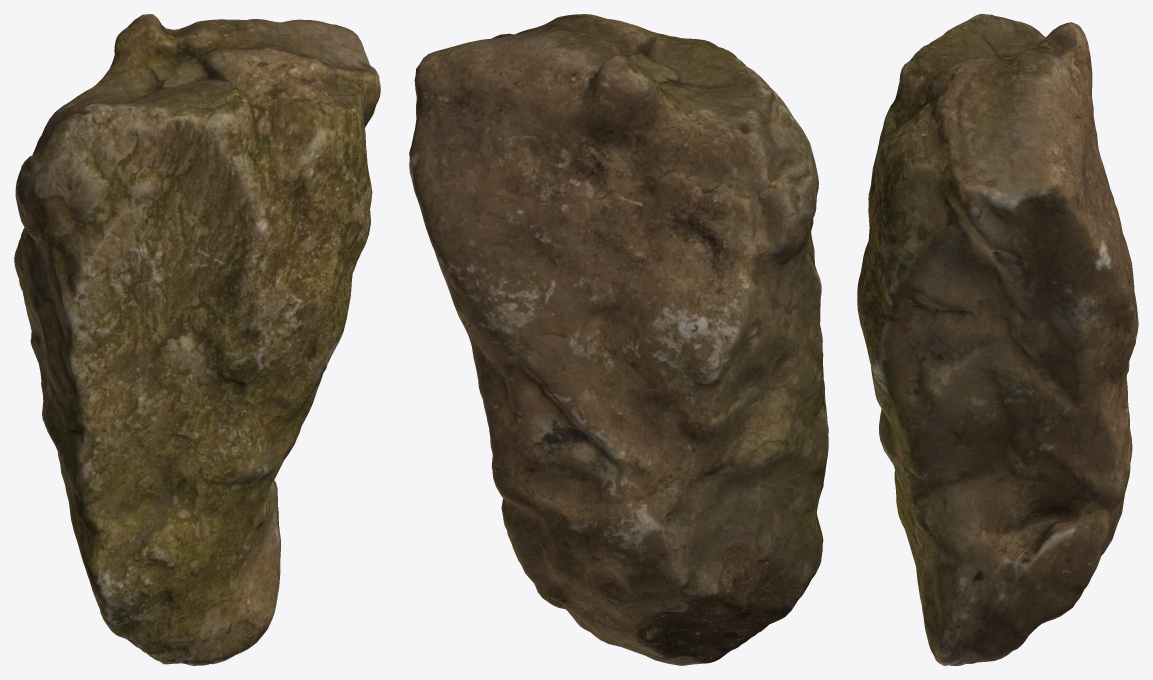
The model's file is Rock2-com.glb.
3 renders of one model, left to right at view 1: azimuth 30°, elevation 25°; view 2: azimuth 150°, elevation 25°; view 3: azimuth 270°, elevation 25°, orthographic. The views are drawn at different scales.
Visible parts, largest first — view 1: origin, origin_cell.085, origin_cell.067, origin_cell.110, origin_cell.077, origin_cell.034, origin_cell.051, origin_cell.117, origin_cell.027, origin_cell.010, origin_cell.003, origin_cell.070 (+41 smaller); view 2: origin, origin_cell.133, origin_cell.139, origin_cell.002, origin_cell.068, origin_cell.031, origin_cell.146, origin_cell.050, origin_cell.082, origin_cell.100, origin_cell.054, origin_cell.081 (+48 smaller); view 3: origin, origin_cell.083, origin_cell.124, origin_cell.052, origin_cell.098, origin_cell.028, origin_cell.090, origin_cell.127, origin_cell.096, origin_cell.064, origin_cell.129, origin_cell.101 (+34 smaller).
Part boxes in pixels (<box>): origin: <box>14,14,380,665</box>; origin_cell.085: <box>63,119,170,224</box>; origin_cell.067: <box>45,212,161,314</box>; origin_cell.110: <box>163,165,265,259</box>; origin_cell.077: <box>98,254,193,353</box>; origin_cell.034: <box>255,153,334,260</box>; origin_cell.051: <box>209,562,272,663</box>; origin_cell.117: <box>87,335,168,430</box>; origin_cell.027: <box>155,453,262,564</box>; origin_cell.010: <box>130,96,199,194</box>; origin_cell.003: <box>103,19,186,90</box>; origin_cell.070: <box>121,526,201,598</box>; origin: <box>410,14,828,665</box>; origin_cell.133: <box>446,204,603,290</box>; origin_cell.139: <box>449,259,594,346</box>; origin_cell.002: <box>574,151,668,272</box>; origin_cell.068: <box>564,398,652,517</box>; origin_cell.031: <box>585,301,700,417</box>; origin_cell.146: <box>489,345,587,426</box>; origin_cell.050: <box>729,456,813,531</box>; origin_cell.082: <box>428,99,490,223</box>; origin_cell.100: <box>637,434,731,516</box>; origin_cell.054: <box>639,141,707,228</box>; origin_cell.081: <box>505,425,564,509</box>; origin: <box>857,14,1138,665</box>; origin_cell.083: <box>1029,197,1132,309</box>; origin_cell.124: <box>947,77,1056,179</box>; origin_cell.052: <box>925,267,1019,354</box>; origin_cell.098: <box>1011,490,1095,579</box>; origin_cell.028: <box>928,477,1013,571</box>; origin_cell.090: <box>866,338,952,418</box>; origin_cell.127: <box>1018,290,1134,373</box>; origin_cell.096: <box>1039,327,1131,432</box>; origin_cell.064: <box>947,354,1039,429</box>; origin_cell.129: <box>873,198,941,289</box>; origin_cell.101: <box>942,563,1037,635</box>.
Bounding box in the file's own units: 1.82 × 3 × 1.21.
Materials: 1 (1 with a texture image).
